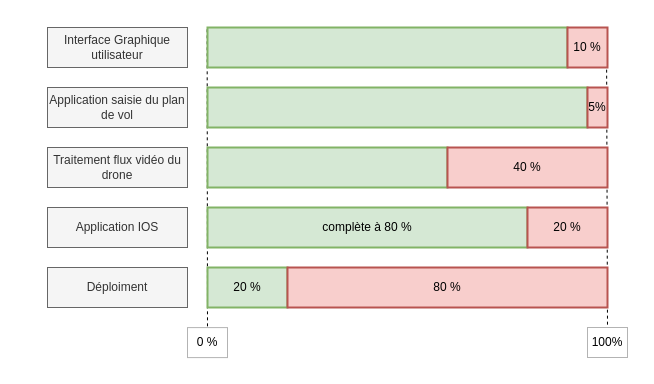
This 654x384 diagram has some shape labels left out. The shapes that lost their labels are listed below. From the top down, each one's centre as x and y in pixels, then its label:
At [387,47]: "complète à 90 %".
At [397,107]: "complète à 95 %".
At [327,167]: "complète à 60 %".
